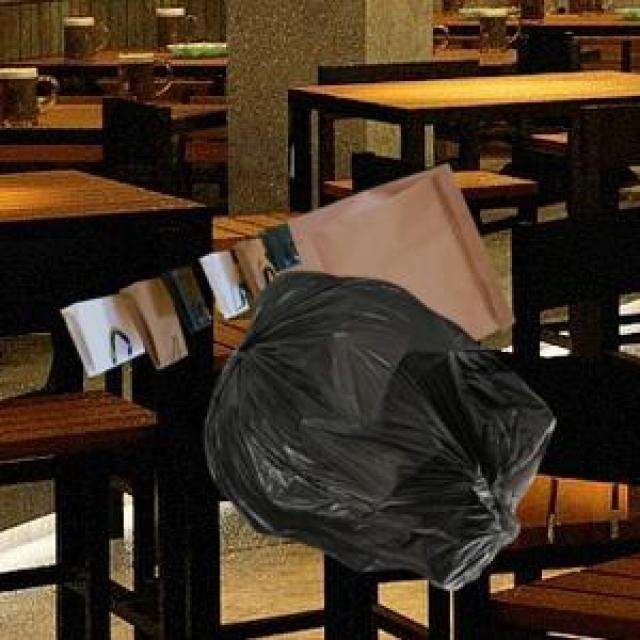miscellaneous trash: (201, 267, 550, 585)
paper: (270, 160, 510, 337), (58, 220, 297, 371)
